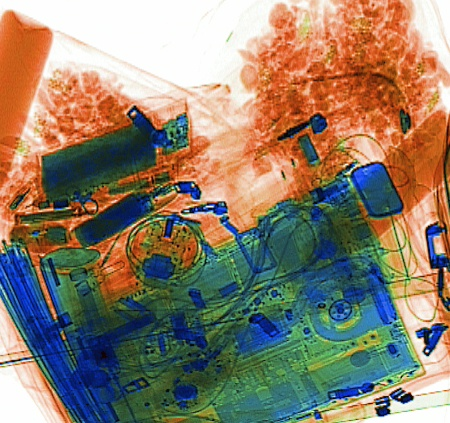powerbank: (70, 170, 179, 249)
